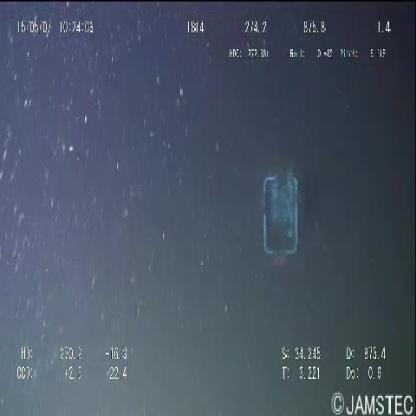Rác: (256, 162, 301, 270)
